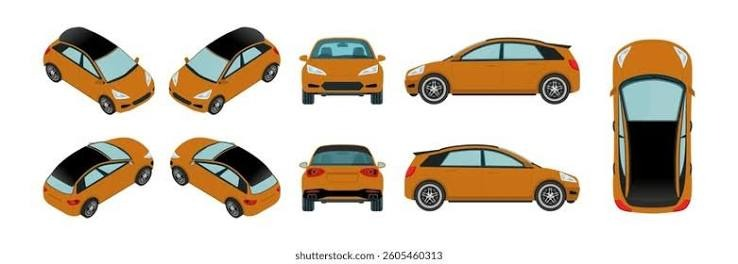car: (400, 39, 588, 104), (396, 146, 581, 210), (298, 37, 389, 107), (293, 40, 390, 103), (294, 39, 386, 103), (297, 147, 392, 208), (297, 145, 388, 206)
